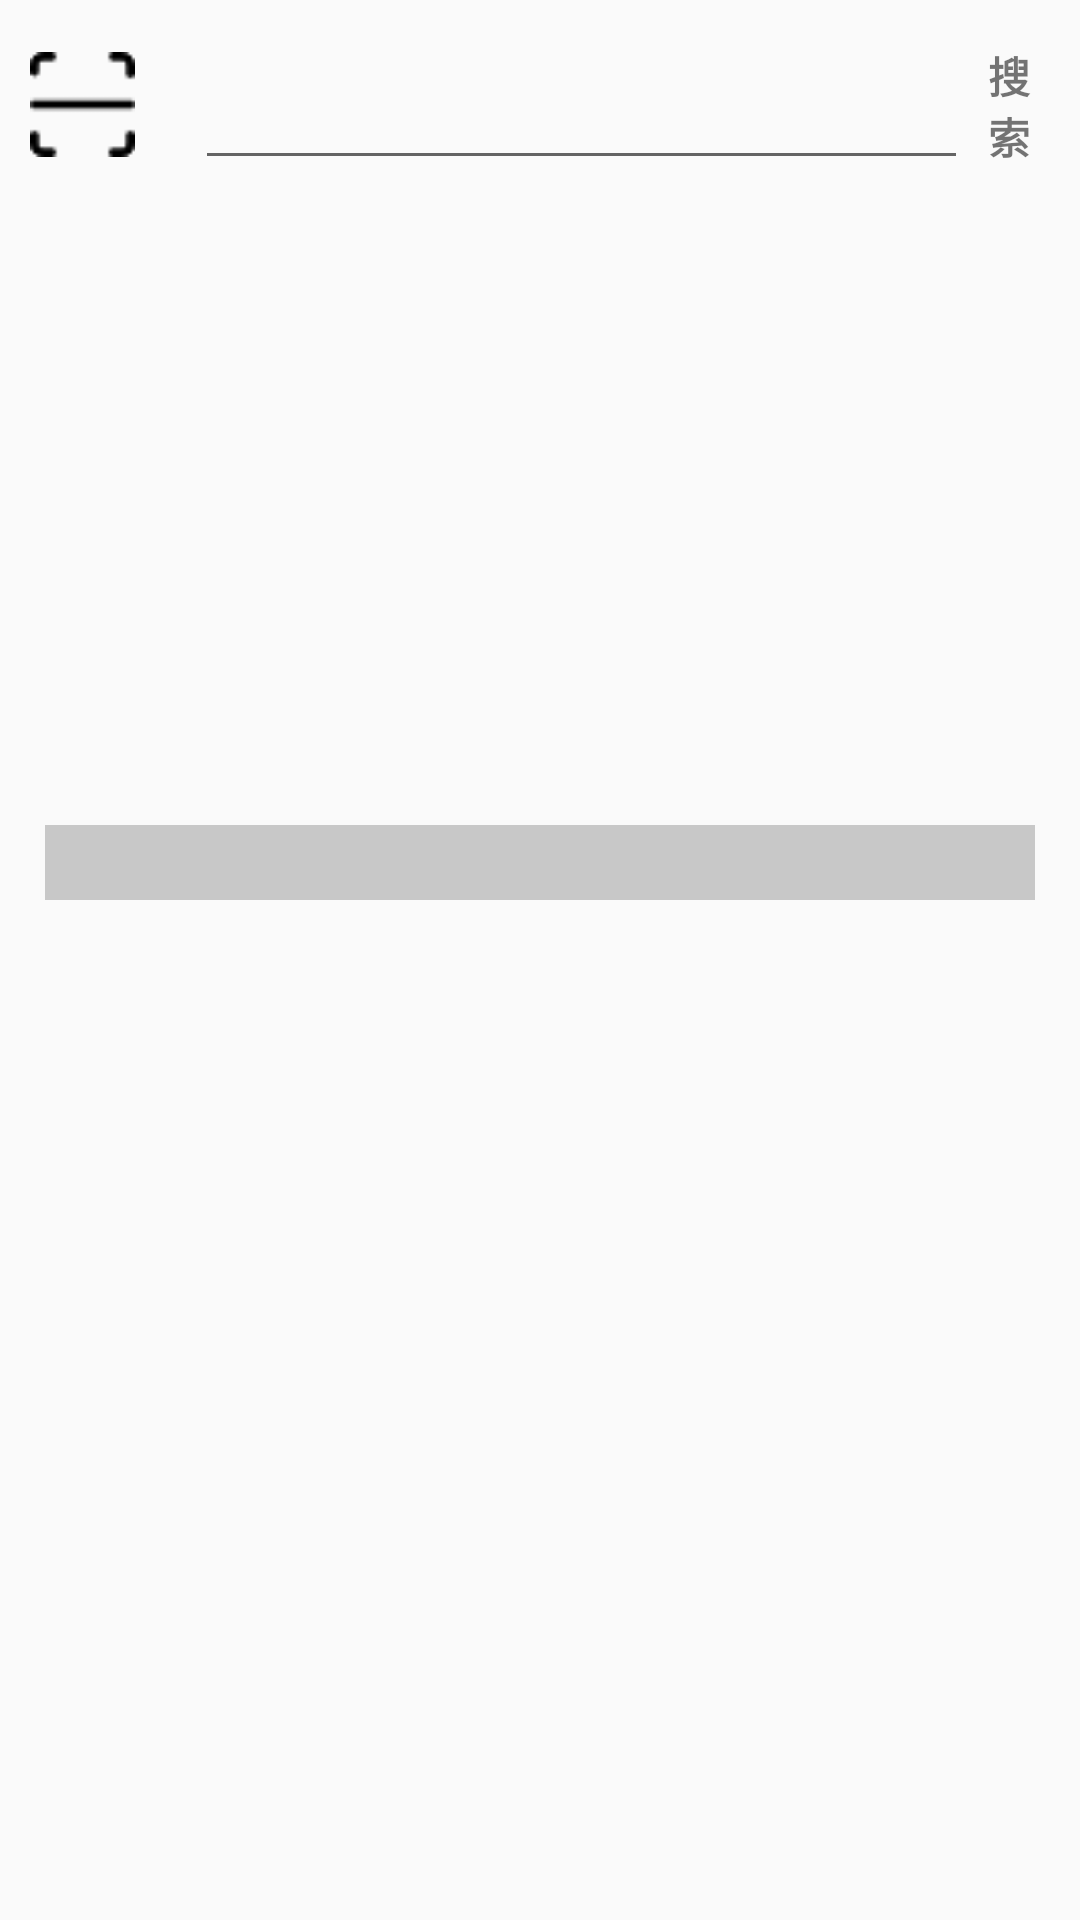

Named icons in this screenshot (1080px x 1920px) and their centers, (x=x, y=y):
saoyisao: (x=82, y=104)
